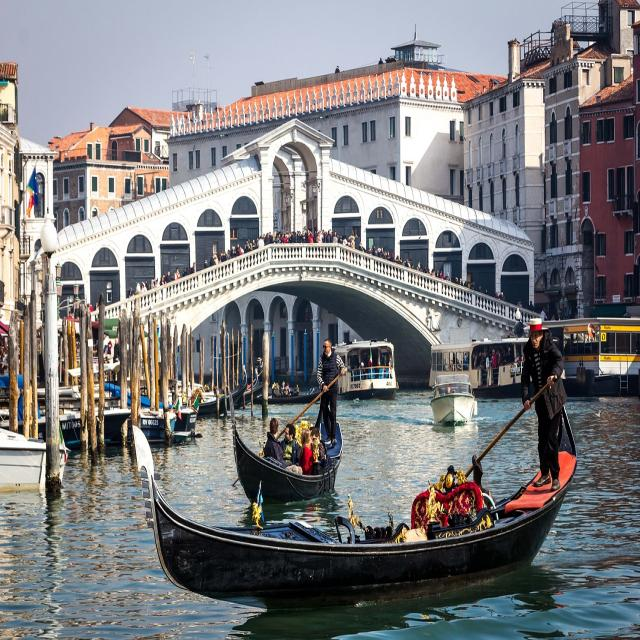boat: (115, 394, 585, 640), (219, 374, 353, 530)
